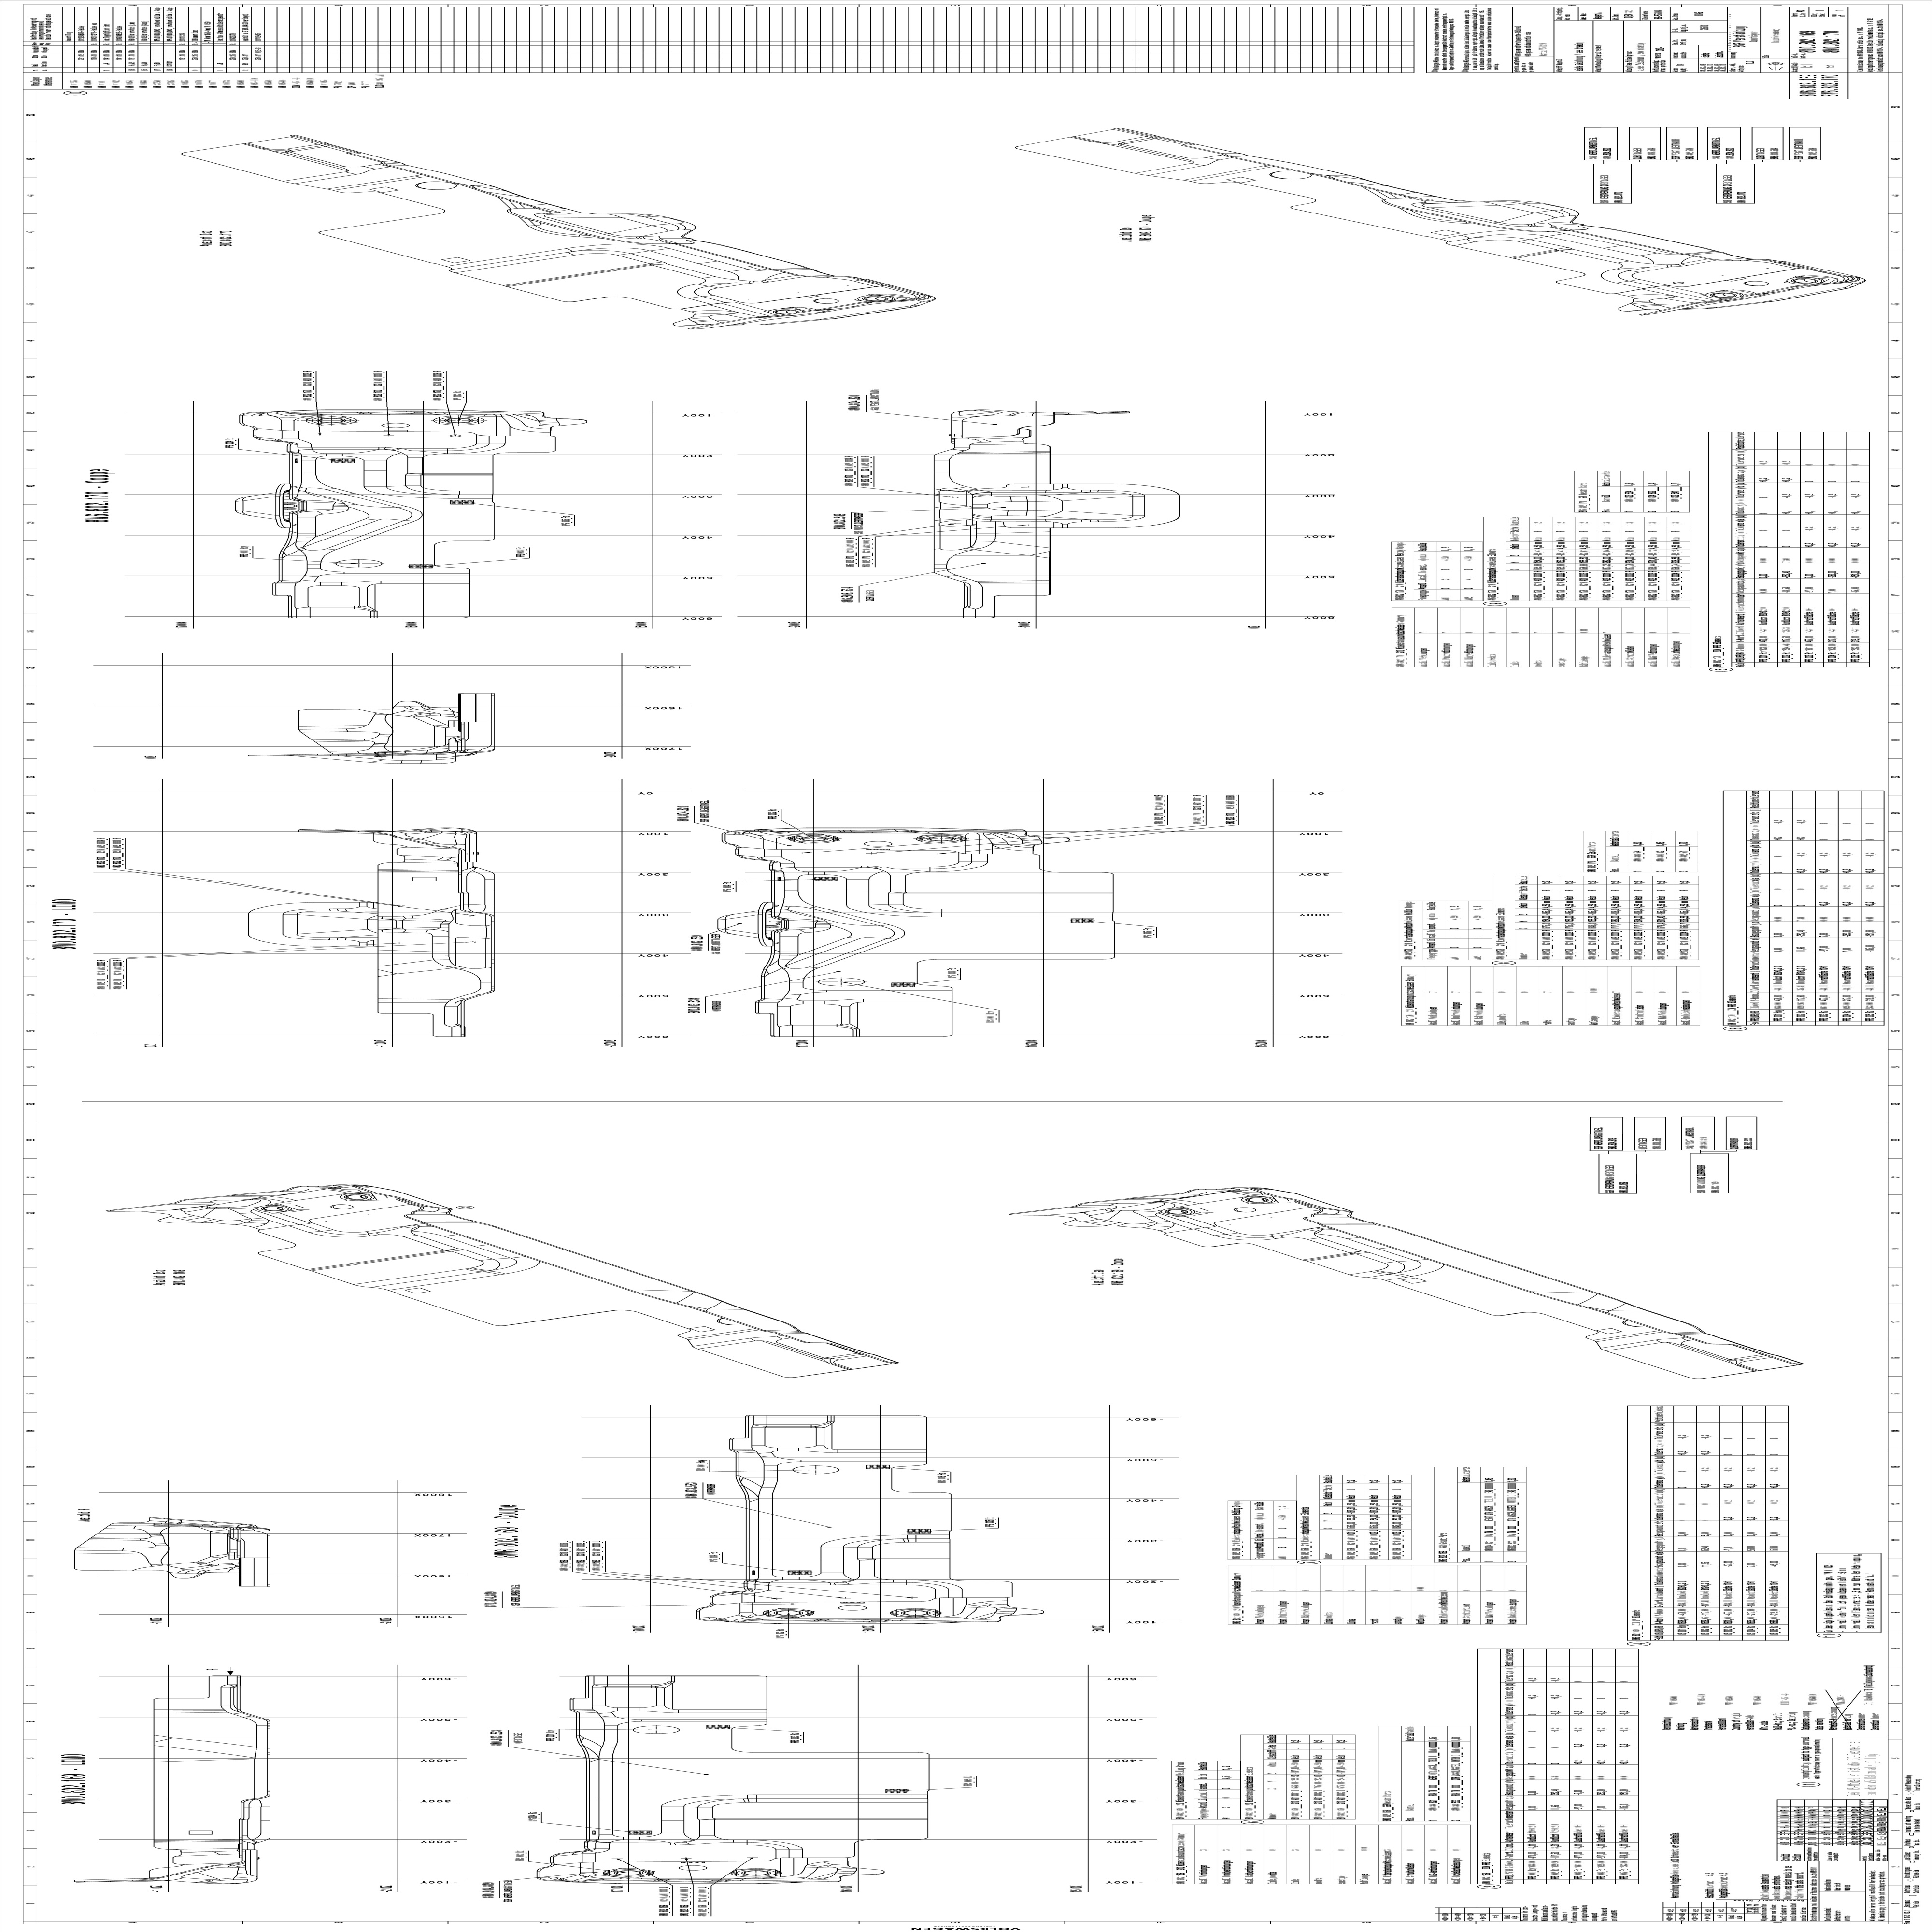InnerContour: (791, 1464, 841, 1477), (630, 1723, 682, 1736), (333, 556, 384, 568), (818, 975, 865, 987)
ThroughHole: (433, 415, 483, 426), (305, 415, 358, 426), (896, 1605, 935, 1619), (611, 1865, 647, 1879), (1705, 289, 1744, 301), (922, 833, 961, 844), (1786, 276, 1823, 287), (770, 305, 804, 317), (1239, 1194, 1274, 1206), (796, 834, 833, 845), (1160, 1206, 1194, 1218), (339, 1192, 373, 1203), (257, 1203, 290, 1215), (860, 294, 895, 305), (738, 1868, 776, 1878), (769, 1607, 807, 1617)
